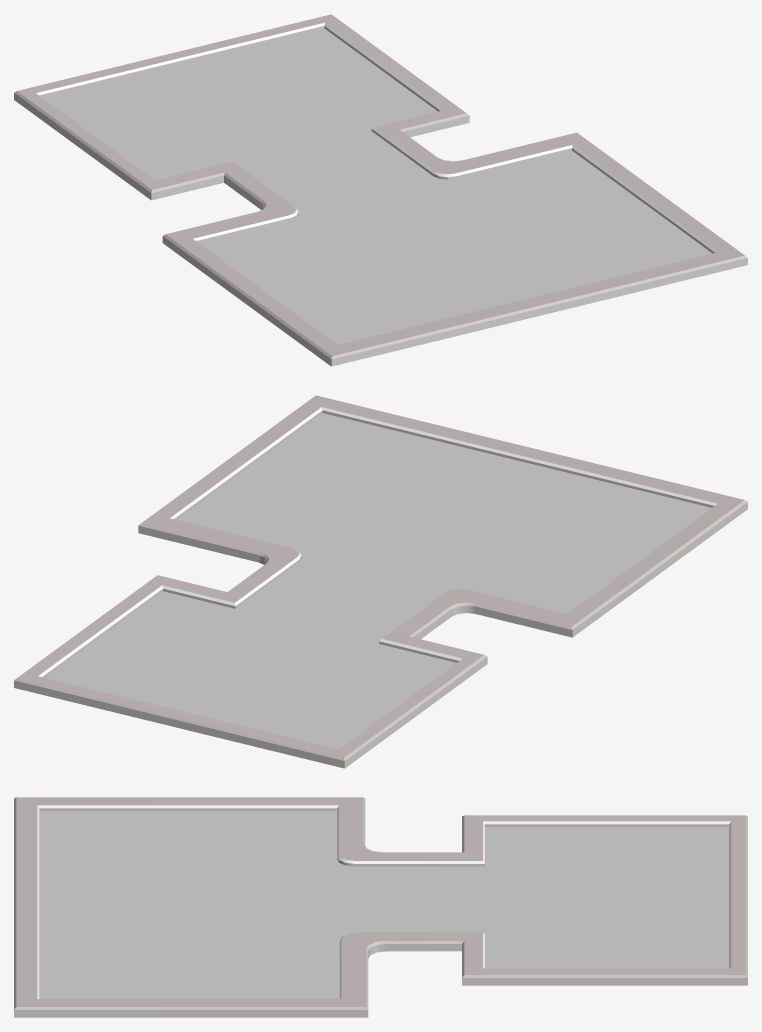
Rendered from sangach1.fbx.
3 views of the same model, one above another, from view 1: azimuth 30°, elevation 25°; view 2: azimuth 150°, elevation 25°; view 3: azimuth 270°, elevation 25° (orthographic). The views are drawn at different scales.
Visible parts, largest first — view 1: polySurface2; view 2: polySurface2; view 3: polySurface2.
Boxes of the visible parts, bbox=[...] form: polySurface2: bbox=[14, 14, 747, 366]; polySurface2: bbox=[14, 395, 747, 768]; polySurface2: bbox=[14, 797, 747, 1017].
Size of the model in its own units: 1549 by 32.81 by 2272.
